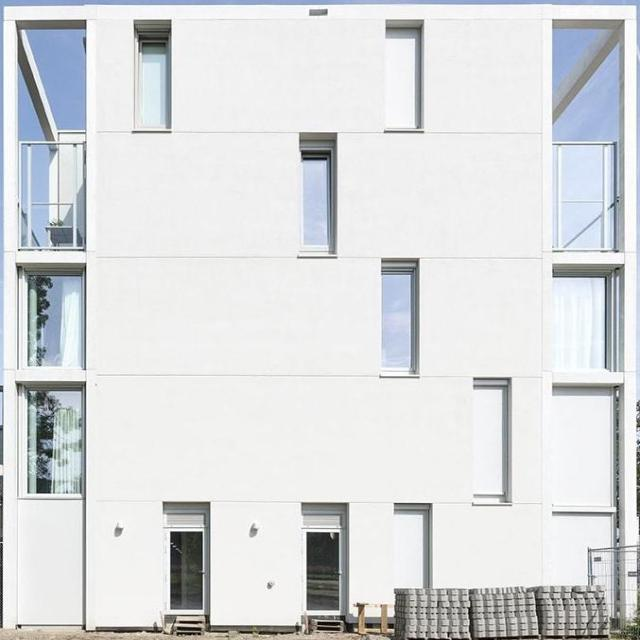door: (306, 522, 341, 616), (170, 520, 204, 614)
wall: (3, 5, 637, 633)
windows: (21, 385, 85, 494), (25, 271, 86, 370), (554, 275, 610, 368), (475, 378, 514, 502), (386, 26, 424, 128), (138, 36, 172, 130), (298, 153, 332, 247), (383, 272, 417, 366), (393, 510, 428, 590)
